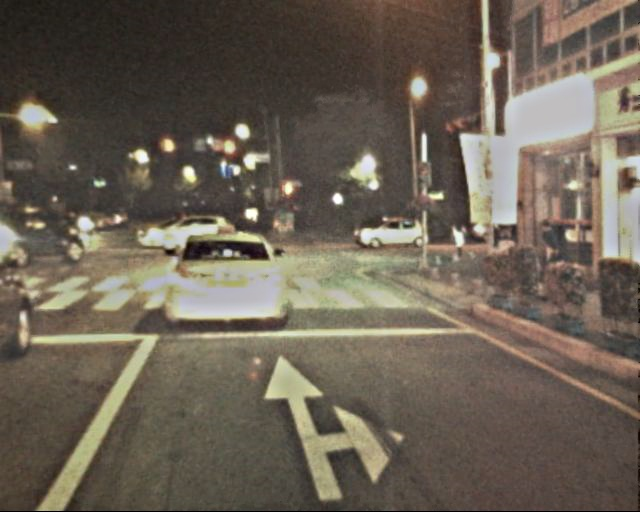person: (536, 218, 561, 290), (451, 218, 472, 266)
